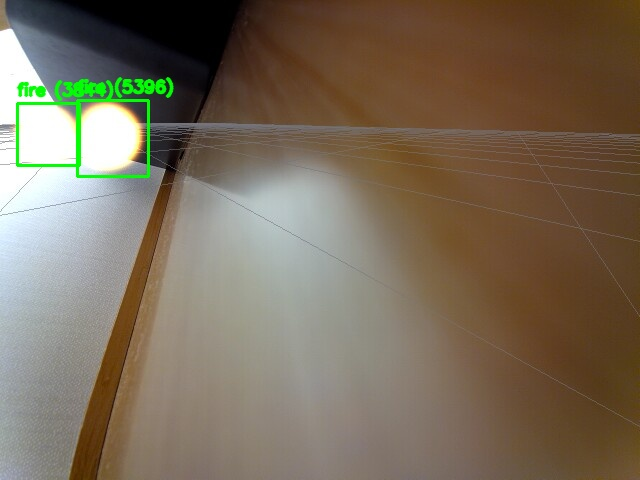fire: (77, 100, 148, 176), (17, 103, 79, 165)
